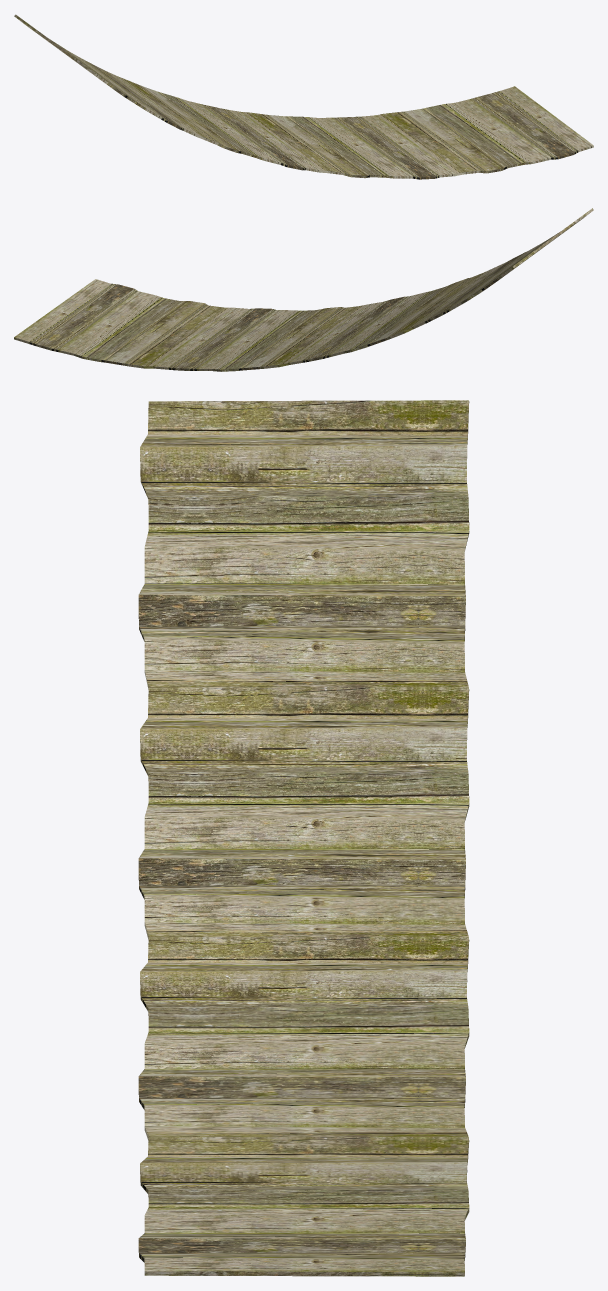
File: Col-R-5-1.fbx
The picture shows the model from 3 angles, top to bottom: view 1: azimuth 30°, elevation 25°; view 2: azimuth 150°, elevation 25°; view 3: azimuth 270°, elevation 25°; orthographic projection. The views are drawn at different scales.
Visible parts, largest first — view 1: Ramp_005__1_; view 2: Ramp_005__1_; view 3: Ramp_005__1_.
Boxes of the visible parts, x1,y1,x2,y2 form: Ramp_005__1_: (14, 14, 593, 179); Ramp_005__1_: (14, 208, 593, 371); Ramp_005__1_: (138, 400, 469, 1276).
Size of the model in its own units: 719 by 271 by 206.
